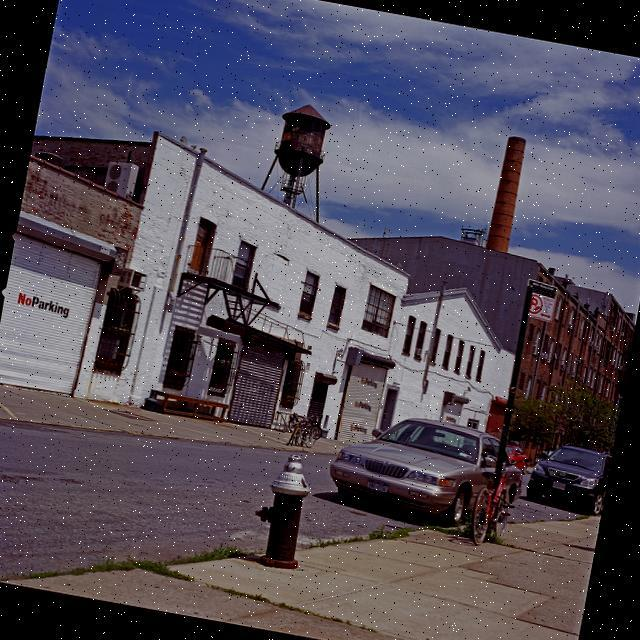fire_hydrant: (246, 448, 317, 570)
